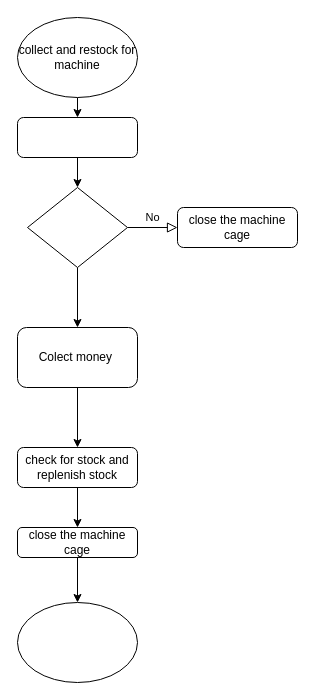
The diagram is 315 pixels wide and 700 high, and some of its shapes have lost their labels. Here are the shapes that lost their labels. From the top down, the box of each, then its label:
(16, 116, 138, 158): open the machine cage
(26, 186, 128, 268): there is any change in machine's stock?
(16, 602, 138, 682): finishing collection and restock
